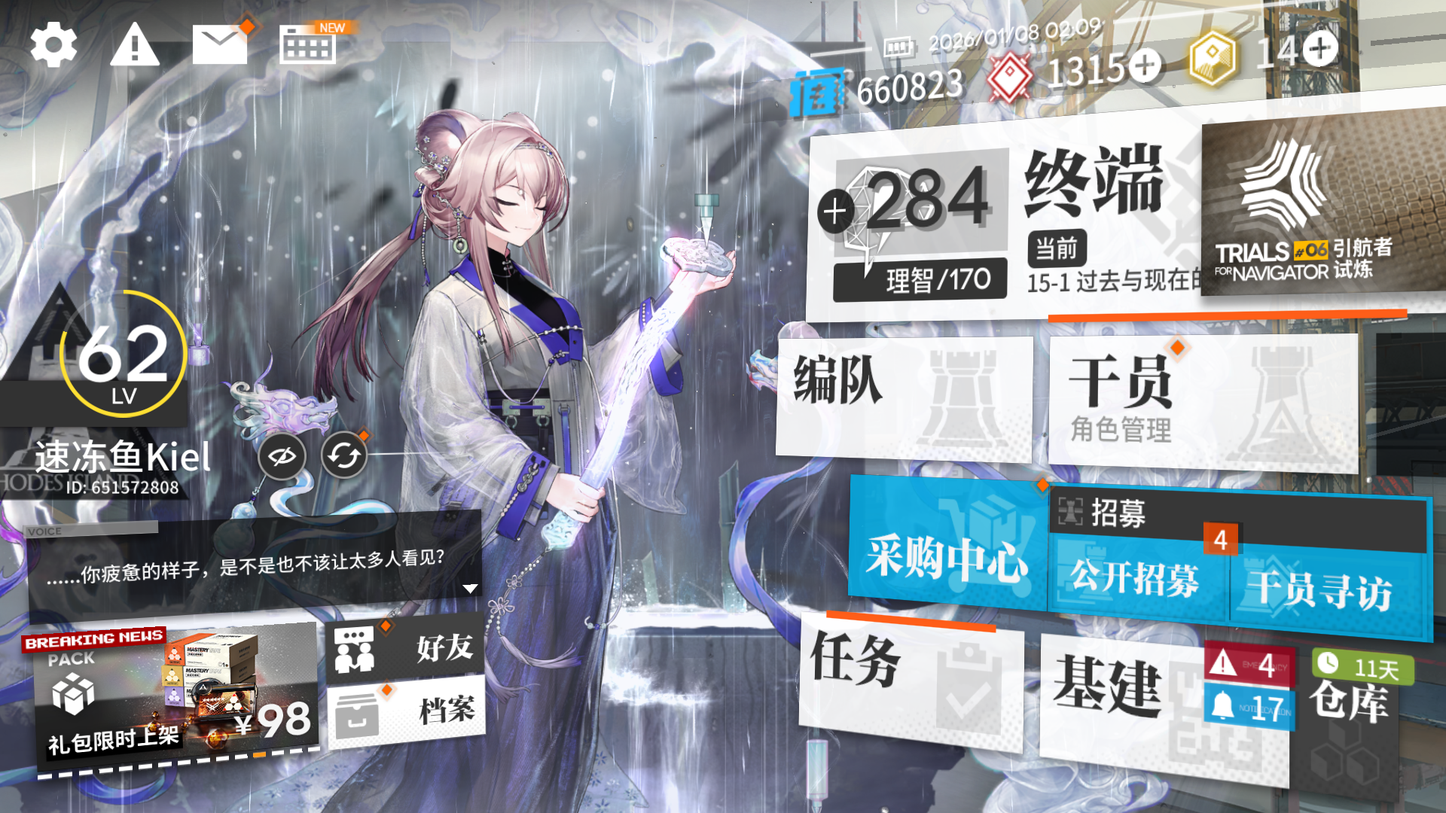home_button: (1010, 132, 1179, 239)
infrastructure_button: (1036, 630, 1264, 790)
